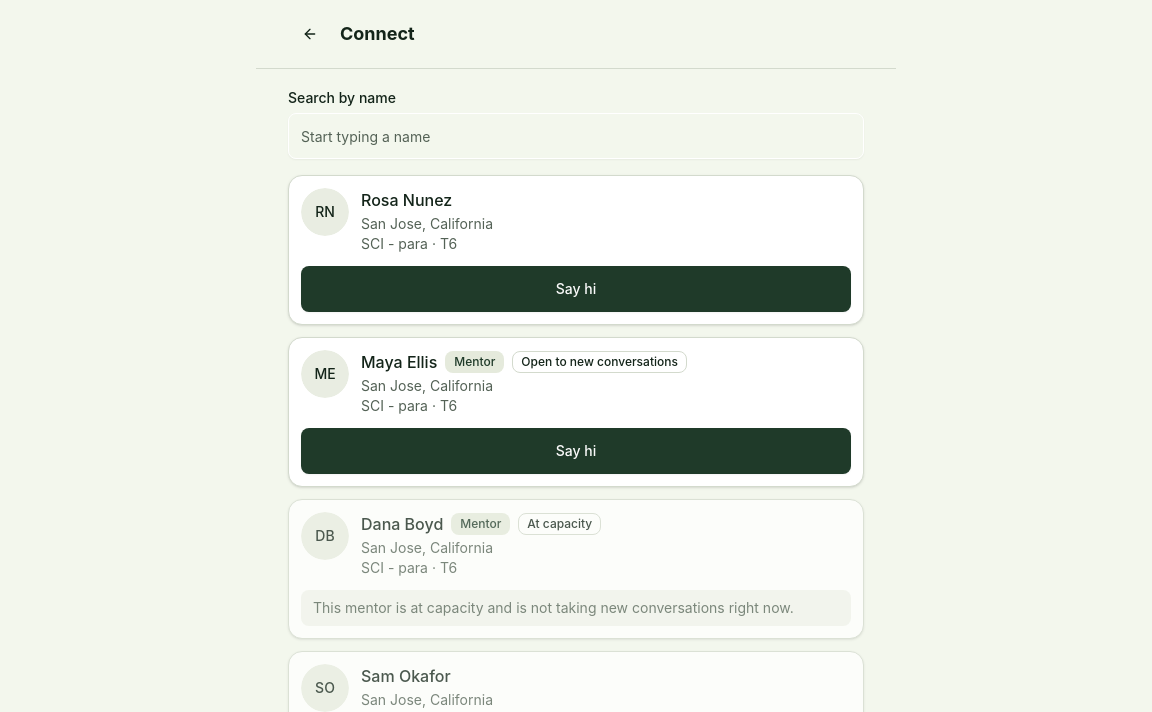
Test: ConnectPage › says a wave to an open mentor opens the conversation straight away
Click the button with aria-label "Say hi to Maya Ellis". click: (576, 451)
box: x1=301 y1=428 x2=851 y2=474
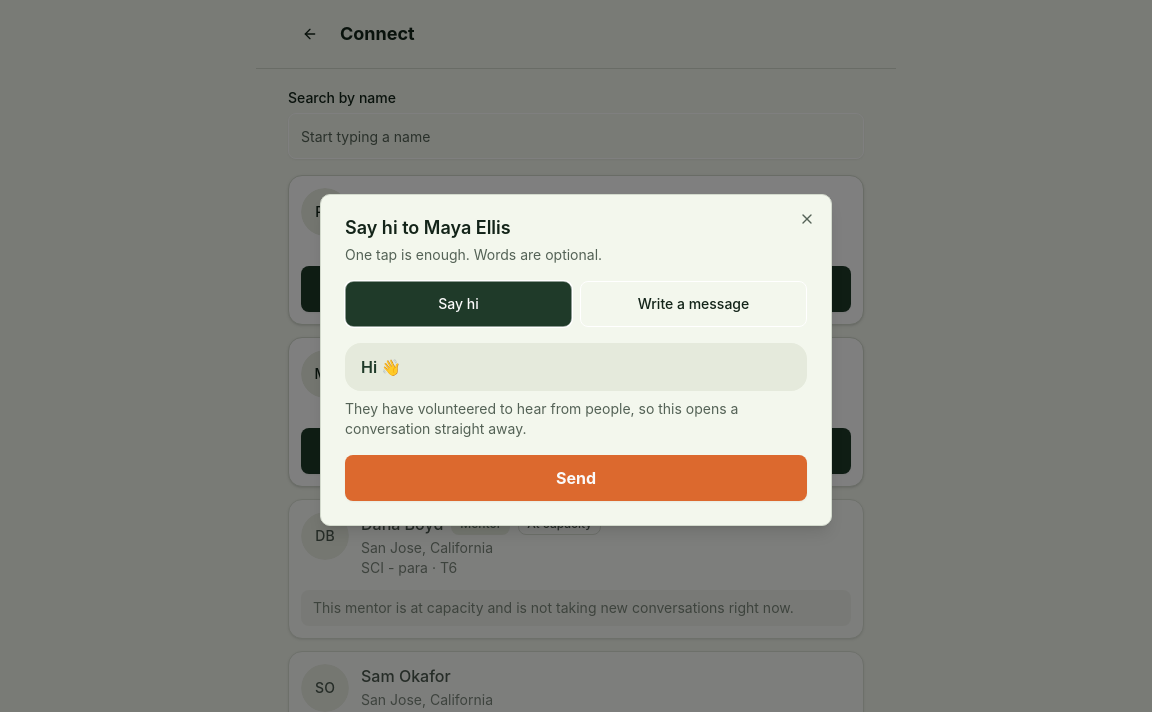
Result: the text "opens a conversation straight away" is shown at x1=345 y1=400 x2=738 y2=437
